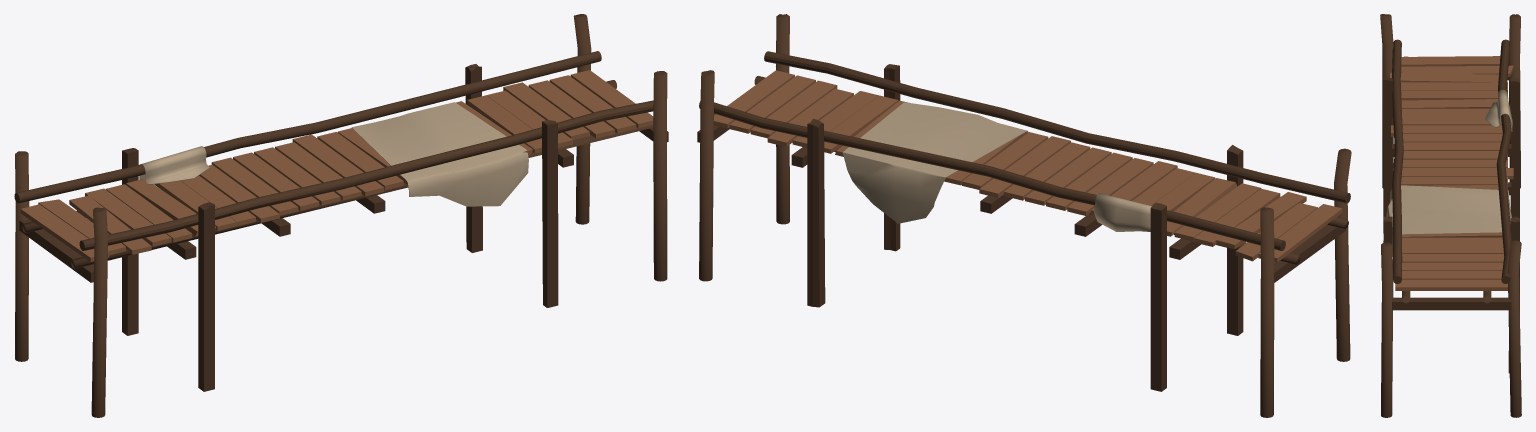
File: Bridge_02.fbx
The picture shows the model from 3 angles, left to right: view 1: azimuth 30°, elevation 25°; view 2: azimuth 150°, elevation 25°; view 3: azimuth 270°, elevation 25°; orthographic projection. The views are drawn at different scales.
Parts seen in each view (by area): view 1: boardStraight.001, bridge, VertSupports.001, boardStraight.002, VertSupports, LengthSuppport, Cloth; view 2: boardStraight.001, bridge, boardStraight.002, VertSupports.001, VertSupports, Cloth; view 3: boardStraight.001, VertSupports.001, bridge, boardStraight.002, VertSupports, Cloth, LengthSuppport.
Boxes of the visible parts, <box> form: boardStraight.001: <box>20,70,653,261</box>; bridge: <box>14,51,668,282</box>; VertSupports.001: <box>15,14,667,417</box>; boardStraight.002: <box>351,102,528,206</box>; VertSupports: <box>122,64,558,391</box>; LengthSuppport: <box>22,80,653,268</box>; Cloth: <box>139,146,209,184</box>; boardStraight.001: <box>714,70,1342,262</box>; bridge: <box>697,51,1350,282</box>; boardStraight.002: <box>842,102,1028,223</box>; VertSupports.001: <box>699,14,1351,417</box>; VertSupports: <box>807,64,1243,391</box>; Cloth: <box>1094,193,1151,231</box>; boardStraight.001: <box>1390,56,1513,290</box>; VertSupports.001: <box>1380,14,1521,417</box>; bridge: <box>1392,39,1511,310</box>; boardStraight.002: <box>1386,185,1511,256</box>; VertSupports: <box>1383,77,1519,373</box>; Cloth: <box>1484,89,1512,131</box>; LengthSuppport: <box>1402,56,1491,303</box>.
Size of the model in its own units: 2319 by 776 by 579.
